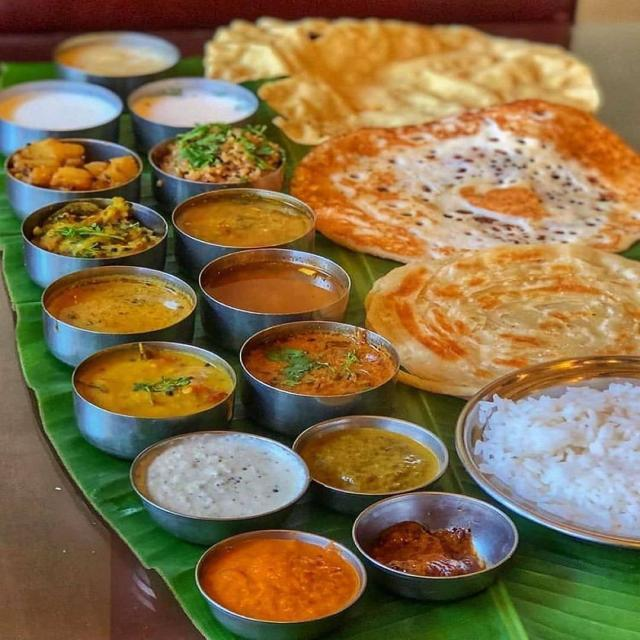curd: (124, 427, 309, 528), (130, 76, 262, 130), (7, 81, 121, 134), (57, 34, 184, 80)
dal: (62, 348, 235, 428)
papad: (198, 20, 336, 81)
pickle: (363, 496, 509, 583)
raita: (127, 75, 261, 130)
rice: (471, 384, 638, 538)
roti: (307, 36, 590, 257), (379, 213, 635, 394), (243, 12, 612, 137)
sambar-rasam: (195, 531, 360, 630), (192, 246, 352, 324), (170, 187, 313, 254), (55, 31, 180, 81)
sweet: (303, 418, 442, 496)
